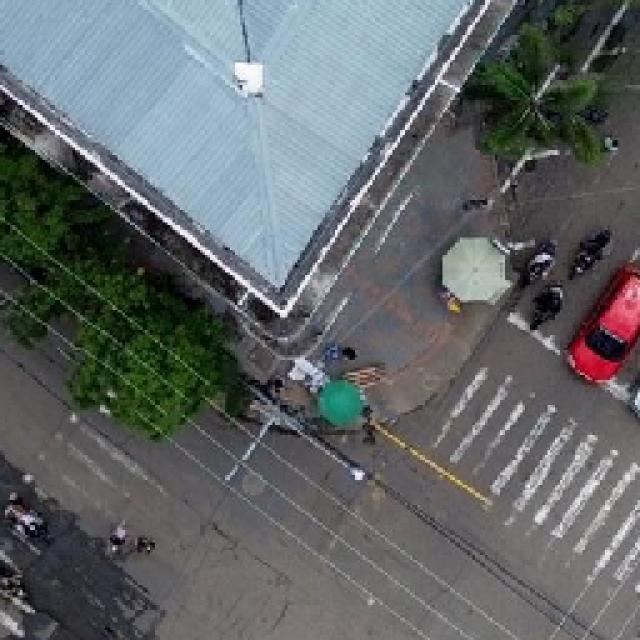vendedor_ambulante: (440, 233, 516, 309), (311, 375, 369, 428)
